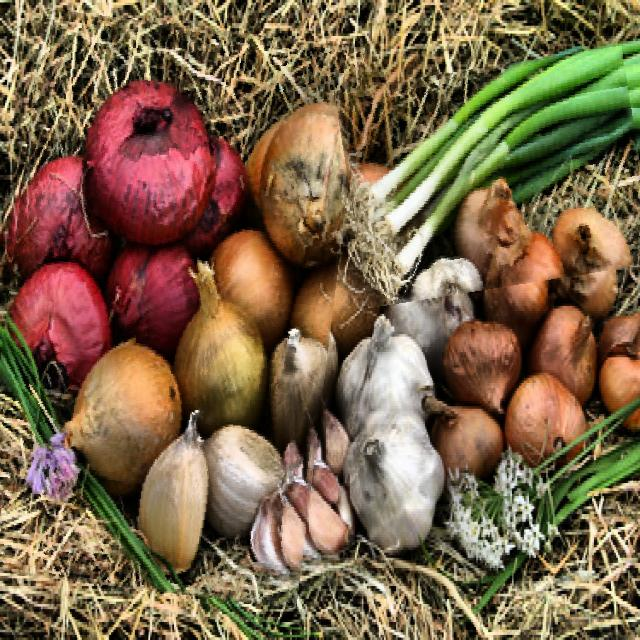onion: (0, 17, 348, 599)
spring onions: (341, 56, 640, 297)
